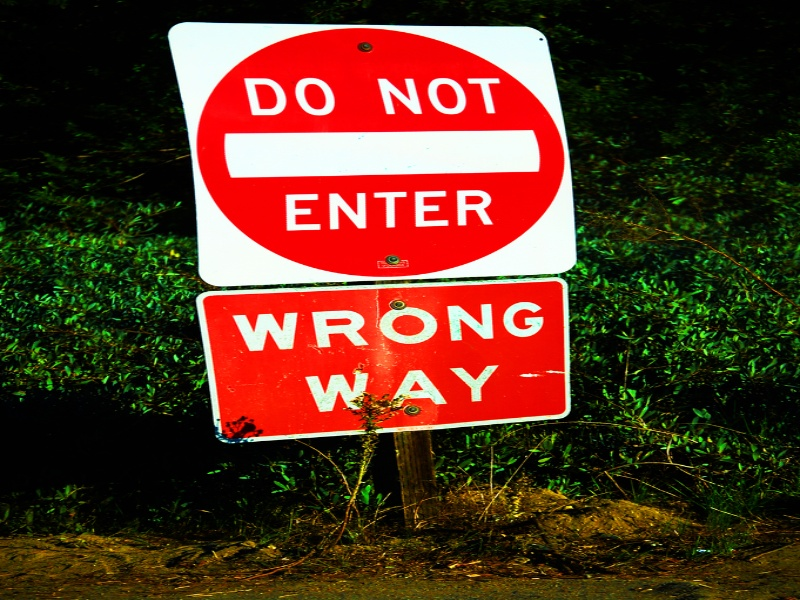no_entry: (165, 18, 602, 278)
wrong_way: (179, 295, 597, 432)
